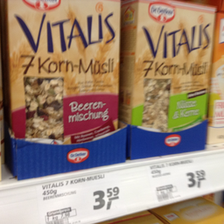cereal: (7, 1, 121, 145), (128, 1, 219, 135)
